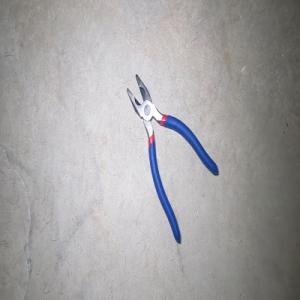Pliers: (126, 73, 218, 243)
